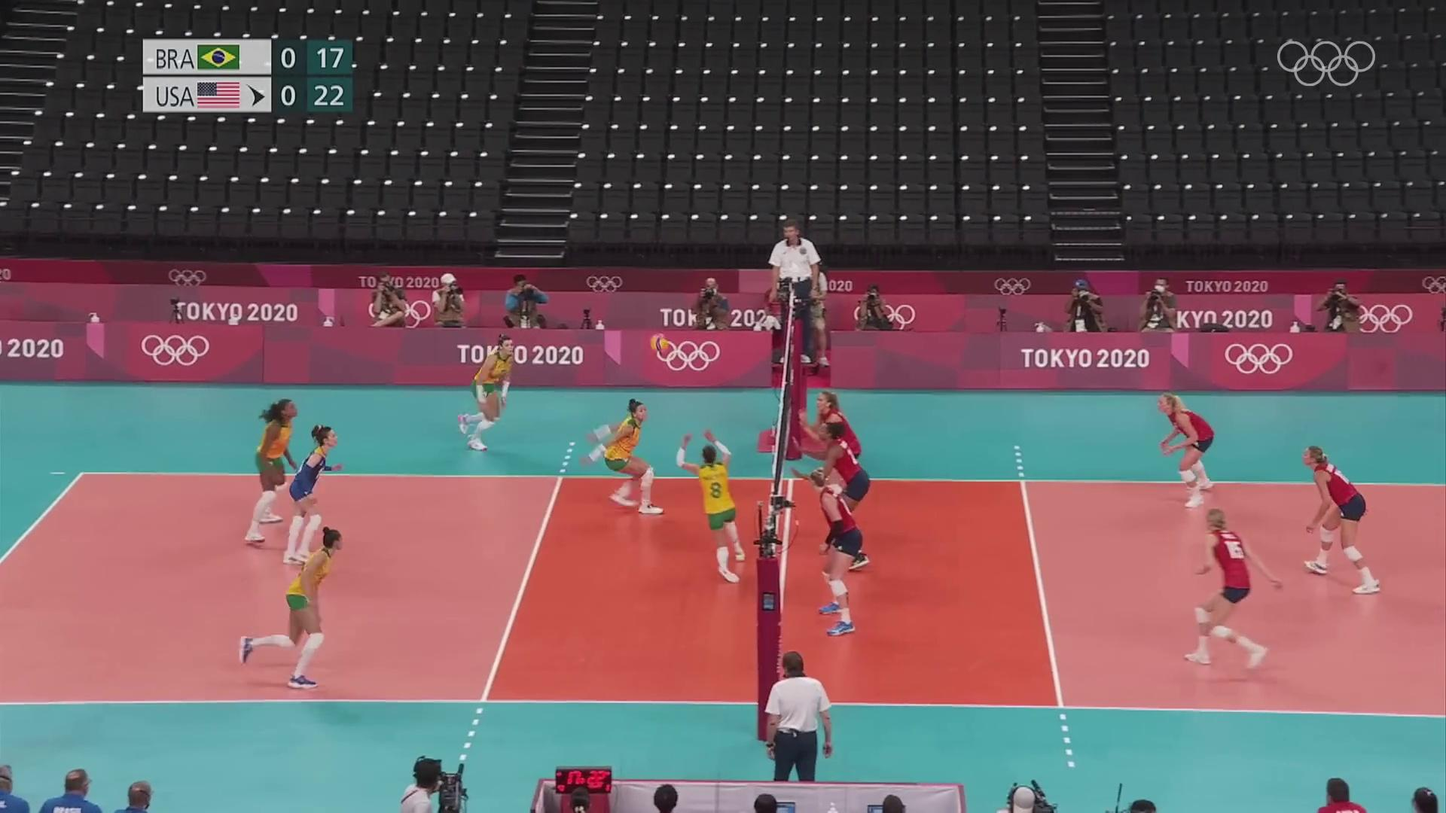player: (236, 528, 344, 689), (1181, 512, 1283, 671), (1299, 446, 1379, 593), (805, 422, 872, 573), (681, 434, 747, 583), (808, 470, 862, 638), (246, 397, 303, 551), (591, 399, 664, 514), (282, 426, 343, 562), (453, 335, 518, 452), (809, 391, 862, 530), (1157, 392, 1218, 508)
refree: (761, 654, 837, 784), (767, 221, 824, 361)
